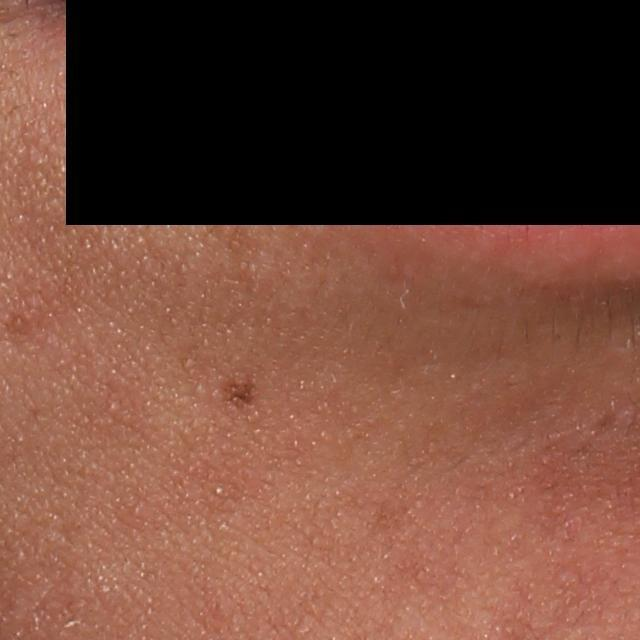nevus: (221, 381, 256, 412)
